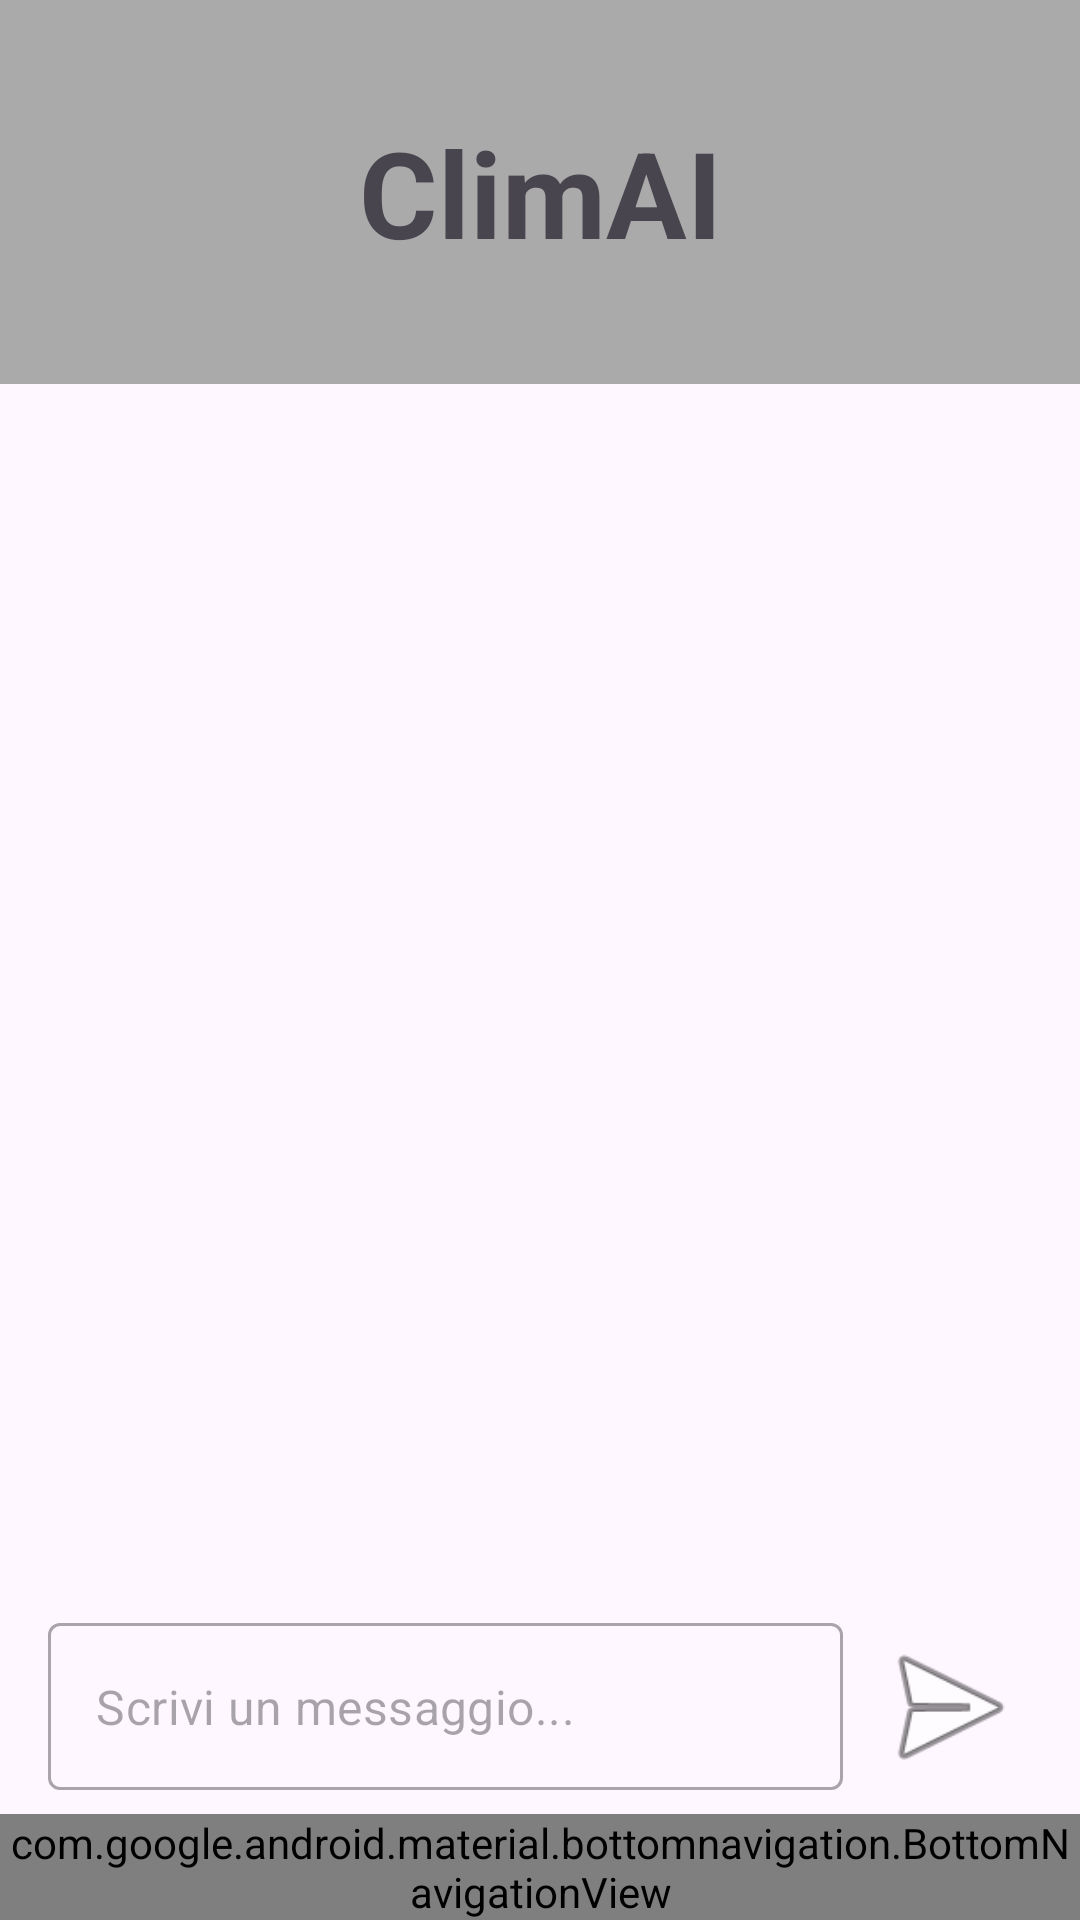

Where icons sit on this 1080 × 1920 app screen, as (x1, y1, x2, y2):
Invia messaggio: (898, 1655, 1004, 1760)
